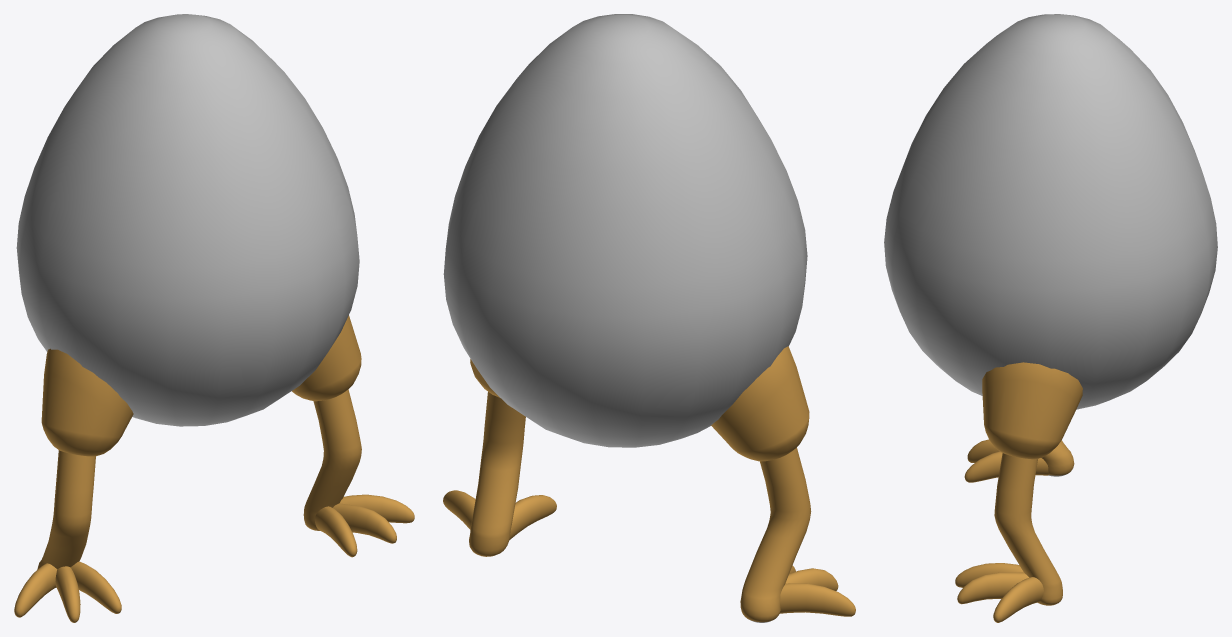
File: PouleufCorrection.fbx
3 views of the same model, side by side, from view 1: azimuth 30°, elevation 25°; view 2: azimuth 150°, elevation 25°; view 3: azimuth 270°, elevation 25° (orthographic). The views are drawn at different scales.
Parts seen in each view (by area): view 1: Oeuf02, pCylinder27, pCylinder25, pCylinder18, pCylinder28, pCylinder24, pCylinder20, pCylinder21, pCylinder22, pCylinder23, pCylinder19; view 2: Oeuf02, pCylinder18, pCylinder27, pCylinder25, pCylinder21, pCylinder23, pCylinder22, pCylinder19; view 3: Oeuf02, pCylinder28, pCylinder25, pCylinder24, pCylinder22, pCylinder20, pCylinder23, pCylinder18.
Part boxes in pixels (bbox=[...]): Oeuf02: bbox=[16, 14, 359, 426]; pCylinder27: bbox=[41, 348, 133, 456]; pCylinder25: bbox=[303, 389, 361, 530]; pCylinder18: bbox=[37, 450, 95, 587]; pCylinder28: bbox=[292, 315, 361, 401]; pCylinder24: bbox=[333, 503, 396, 543]; pCylinder20: bbox=[71, 561, 121, 613]; pCylinder21: bbox=[14, 563, 57, 617]; pCylinder22: bbox=[340, 494, 414, 523]; pCylinder23: bbox=[315, 506, 357, 557]; pCylinder19: bbox=[55, 566, 80, 622]; Oeuf02: bbox=[443, 14, 807, 447]; pCylinder18: bbox=[740, 447, 811, 622]; pCylinder27: bbox=[711, 346, 809, 461]; pCylinder25: bbox=[469, 392, 525, 556]; pCylinder21: bbox=[779, 583, 855, 616]; pCylinder23: bbox=[509, 495, 556, 539]; pCylinder22: bbox=[443, 490, 475, 529]; pCylinder19: bbox=[785, 568, 838, 590]; Oeuf02: bbox=[884, 14, 1217, 409]; pCylinder28: bbox=[982, 362, 1082, 459]; pCylinder25: bbox=[994, 453, 1062, 605]; pCylinder24: bbox=[957, 572, 1029, 604]; pCylinder22: bbox=[993, 577, 1043, 622]; pCylinder20: bbox=[964, 451, 1048, 482]; pCylinder23: bbox=[955, 563, 1023, 587]; pCylinder18: bbox=[1041, 440, 1074, 476].
Size of the model in its own units: 2.63 by 3.41 by 2.
